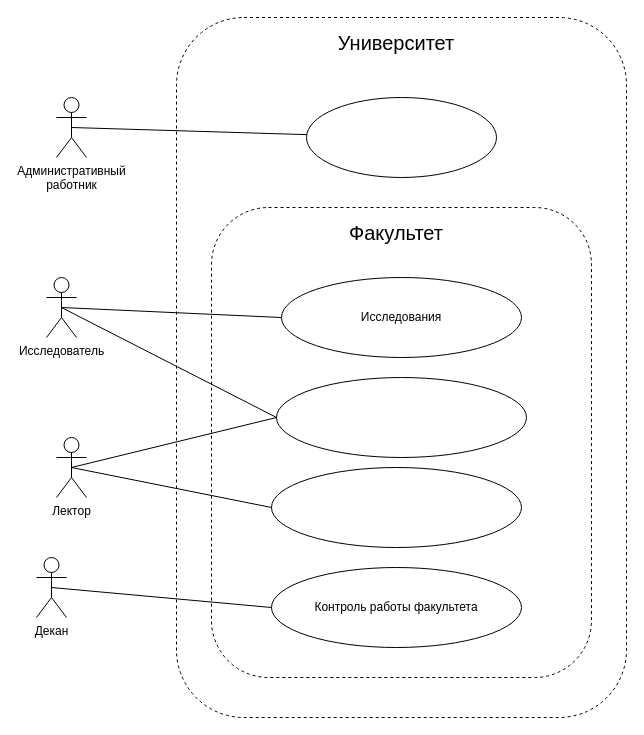
The diagram is 644 pixels wide and 735 high, and some of its shapes have lost their labels. The shapes that lost their labels are listed below. From the top down, each one's centre as x and y in pixels, then its label:
pixel 401 137: Администрирование
pixel 401 417: Работа на кафедре
pixel 396 507: Преподавательская деятельность
